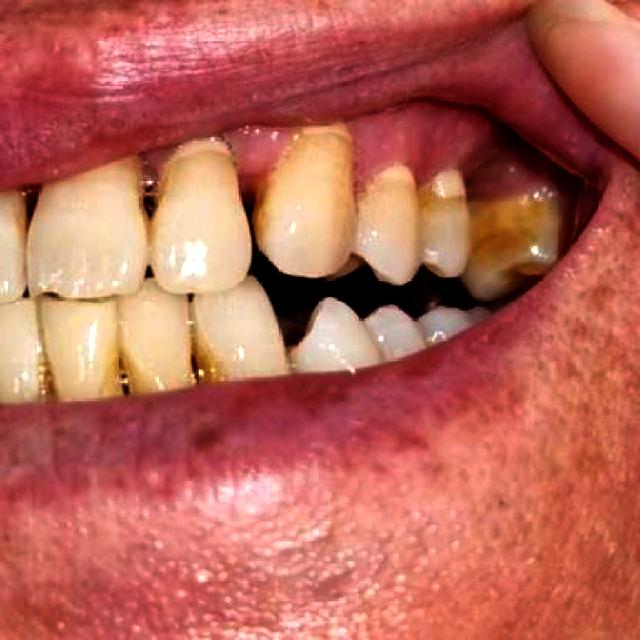Plaque: (349, 110, 540, 196), (234, 128, 291, 200), (144, 150, 167, 186)
